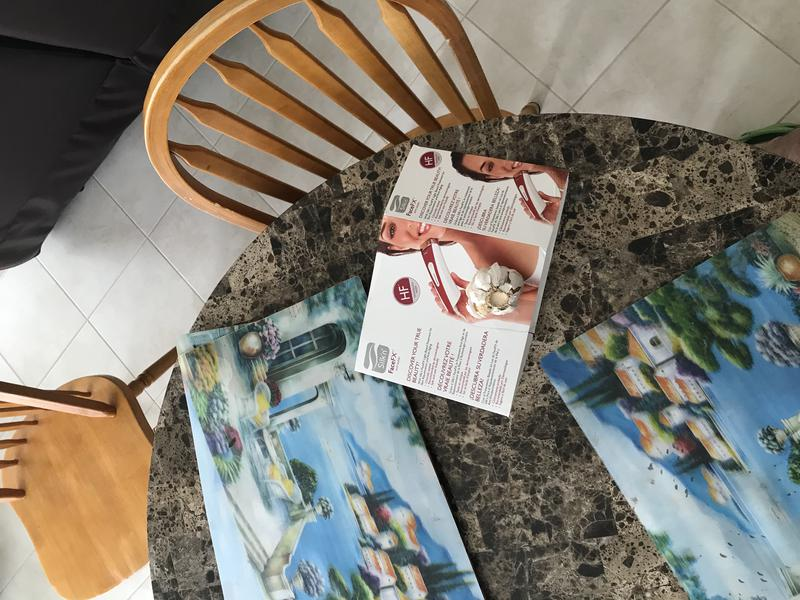garlic: (461, 260, 529, 323)
